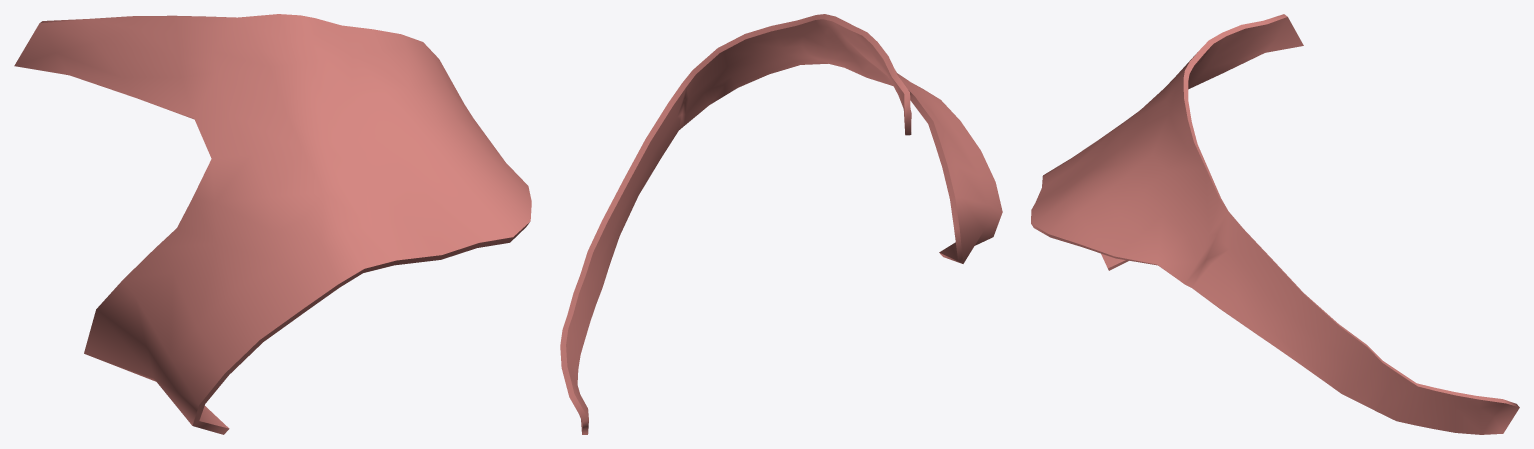
The picture shows the model from 3 angles, left to right: view 1: azimuth 30°, elevation 25°; view 2: azimuth 150°, elevation 25°; view 3: azimuth 270°, elevation 25°; orthographic projection. The views are drawn at different scales.
Parts seen in each view (by area): view 1: ZA_2c0e5ad53857c6a0; view 2: ZA_2c0e5ad53857c6a0; view 3: ZA_2c0e5ad53857c6a0.
Part boxes in pixels (x1,y1,x2,y2): ZA_2c0e5ad53857c6a0: [14, 14, 531, 434]; ZA_2c0e5ad53857c6a0: [560, 14, 1002, 434]; ZA_2c0e5ad53857c6a0: [1031, 14, 1519, 434].
Size of the model in its own units: 0.0574 by 0.0598 by 0.081.
